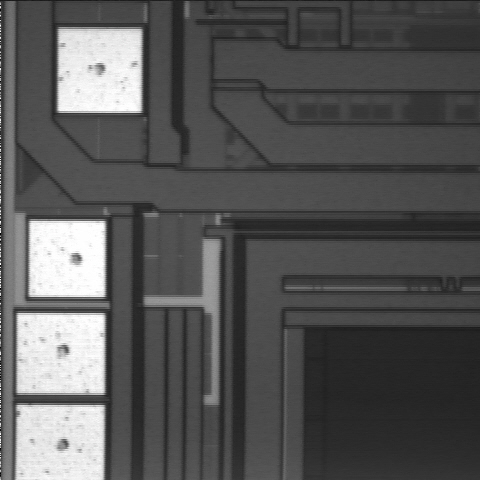pad: (17, 313, 105, 395), (58, 29, 142, 113), (29, 221, 105, 297)
